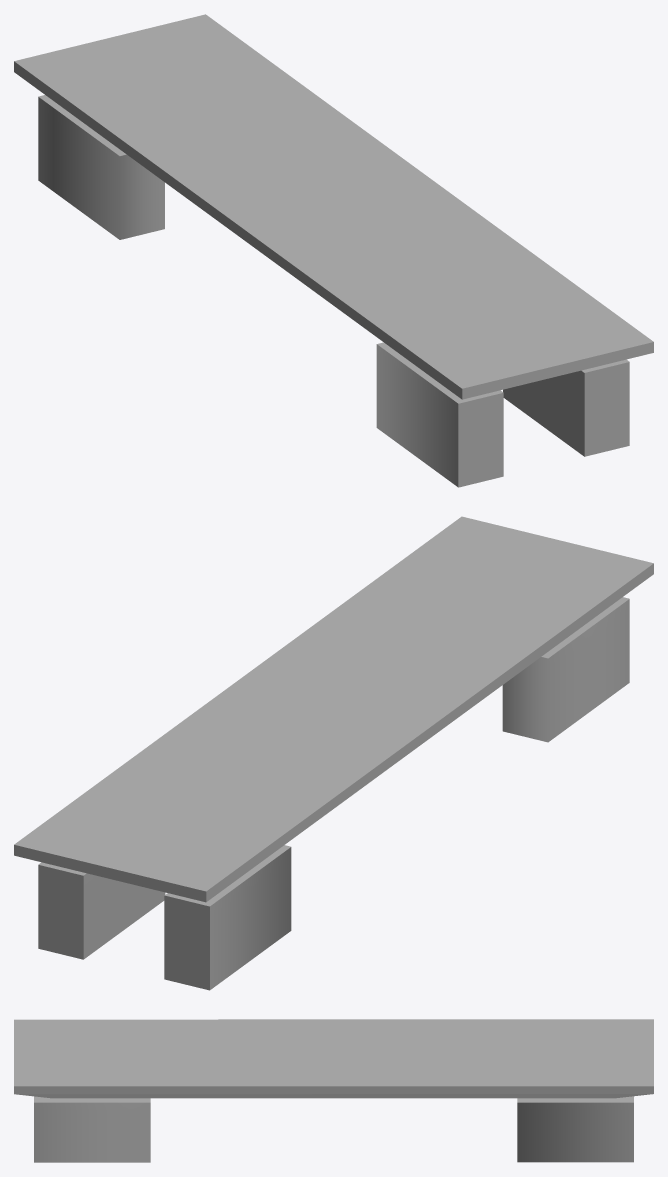
File: SmallBenchChair.fbx
3 views of the same model, one above another, from view 1: azimuth 30°, elevation 25°; view 2: azimuth 150°, elevation 25°; view 3: azimuth 270°, elevation 25° (orthographic). The views are drawn at different scales.
Visible parts, largest first — view 1: Cube.055; view 2: Cube.055; view 3: Cube.055.
Boxes of the visible parts, x1,y1,x2,y2 form: Cube.055: [14, 14, 653, 487]; Cube.055: [14, 516, 653, 990]; Cube.055: [14, 1019, 653, 1162].
Size of the model in its own units: 253 by 140 by 1020.
